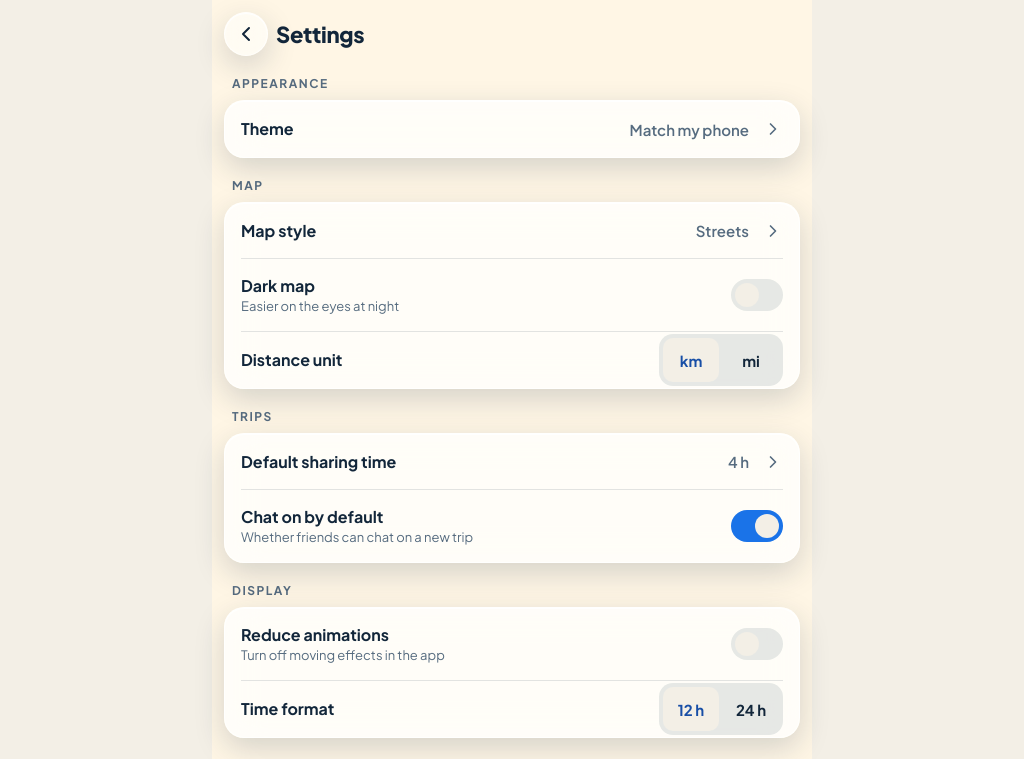
Test: Settings › changes the map style from a sheet and saves it
Click the button "Map style Streets" at (279, 230), box [241,203,783,259]
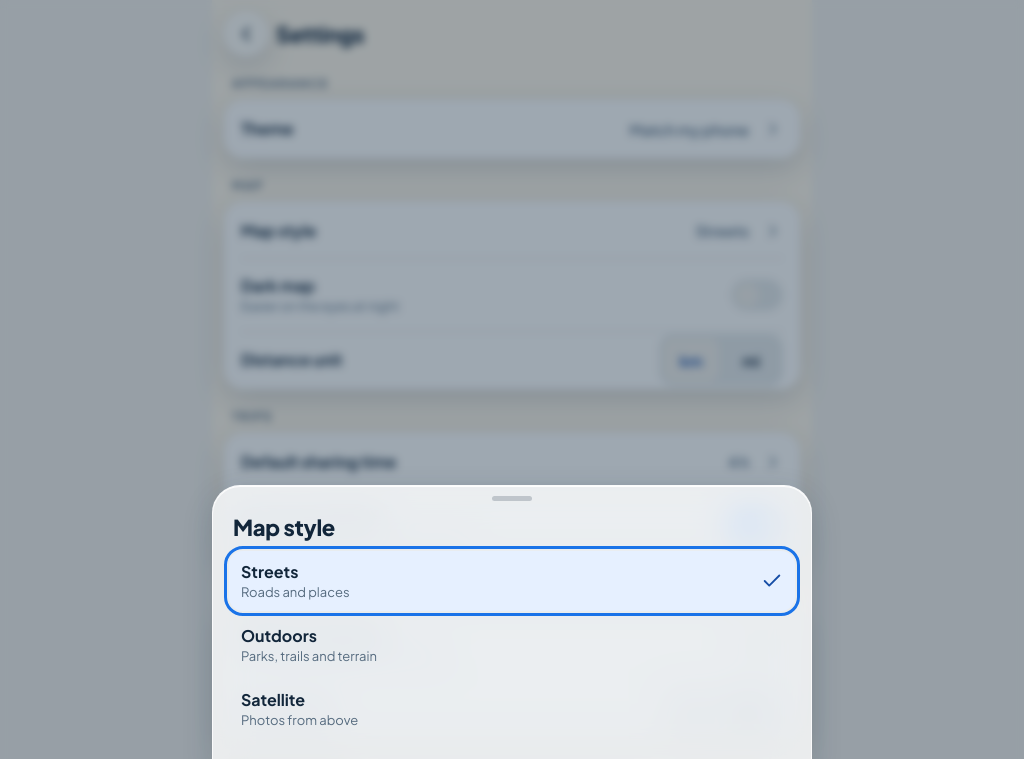
Click the radio button labelled "Satellite Photos from above" at (273, 700), box [229,679,795,739]
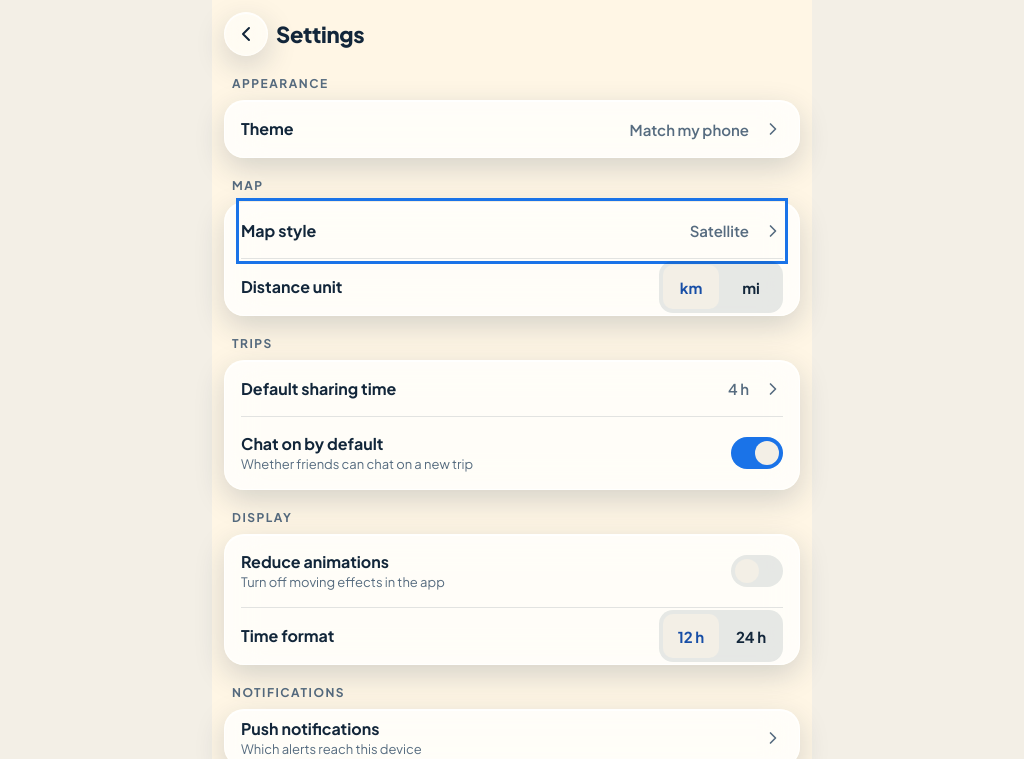
Check: the button with aria-label "Map style, Satellite" is shown, box [241,203,783,259]
